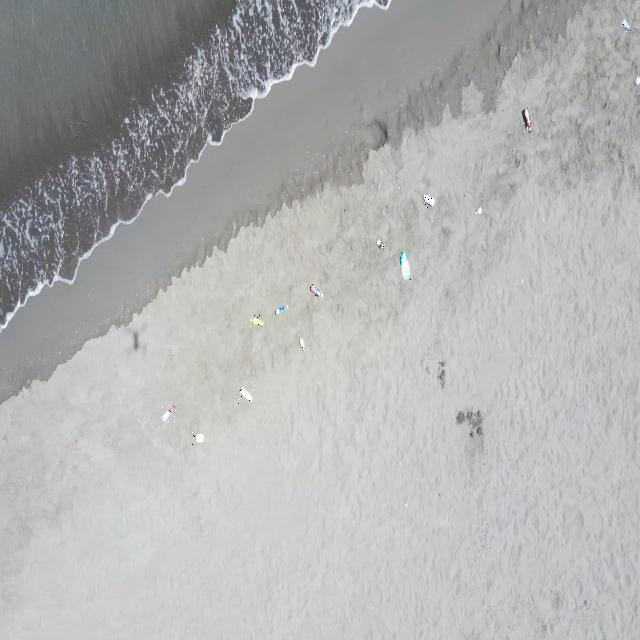Garbage: (160, 404, 175, 422), (520, 108, 531, 131), (400, 251, 408, 279), (240, 387, 252, 400), (311, 283, 322, 296), (249, 315, 263, 324), (192, 432, 203, 443), (275, 303, 287, 313), (424, 193, 432, 207), (620, 20, 630, 31), (376, 239, 384, 248), (633, 75, 639, 85), (299, 336, 303, 348), (475, 207, 482, 213)
